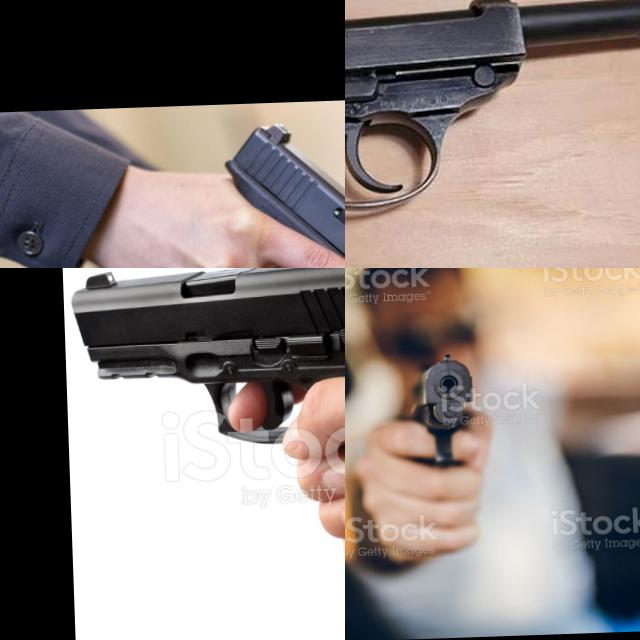handgun: (66, 268, 345, 617), (345, 0, 640, 268), (221, 114, 345, 268), (398, 350, 478, 480)
